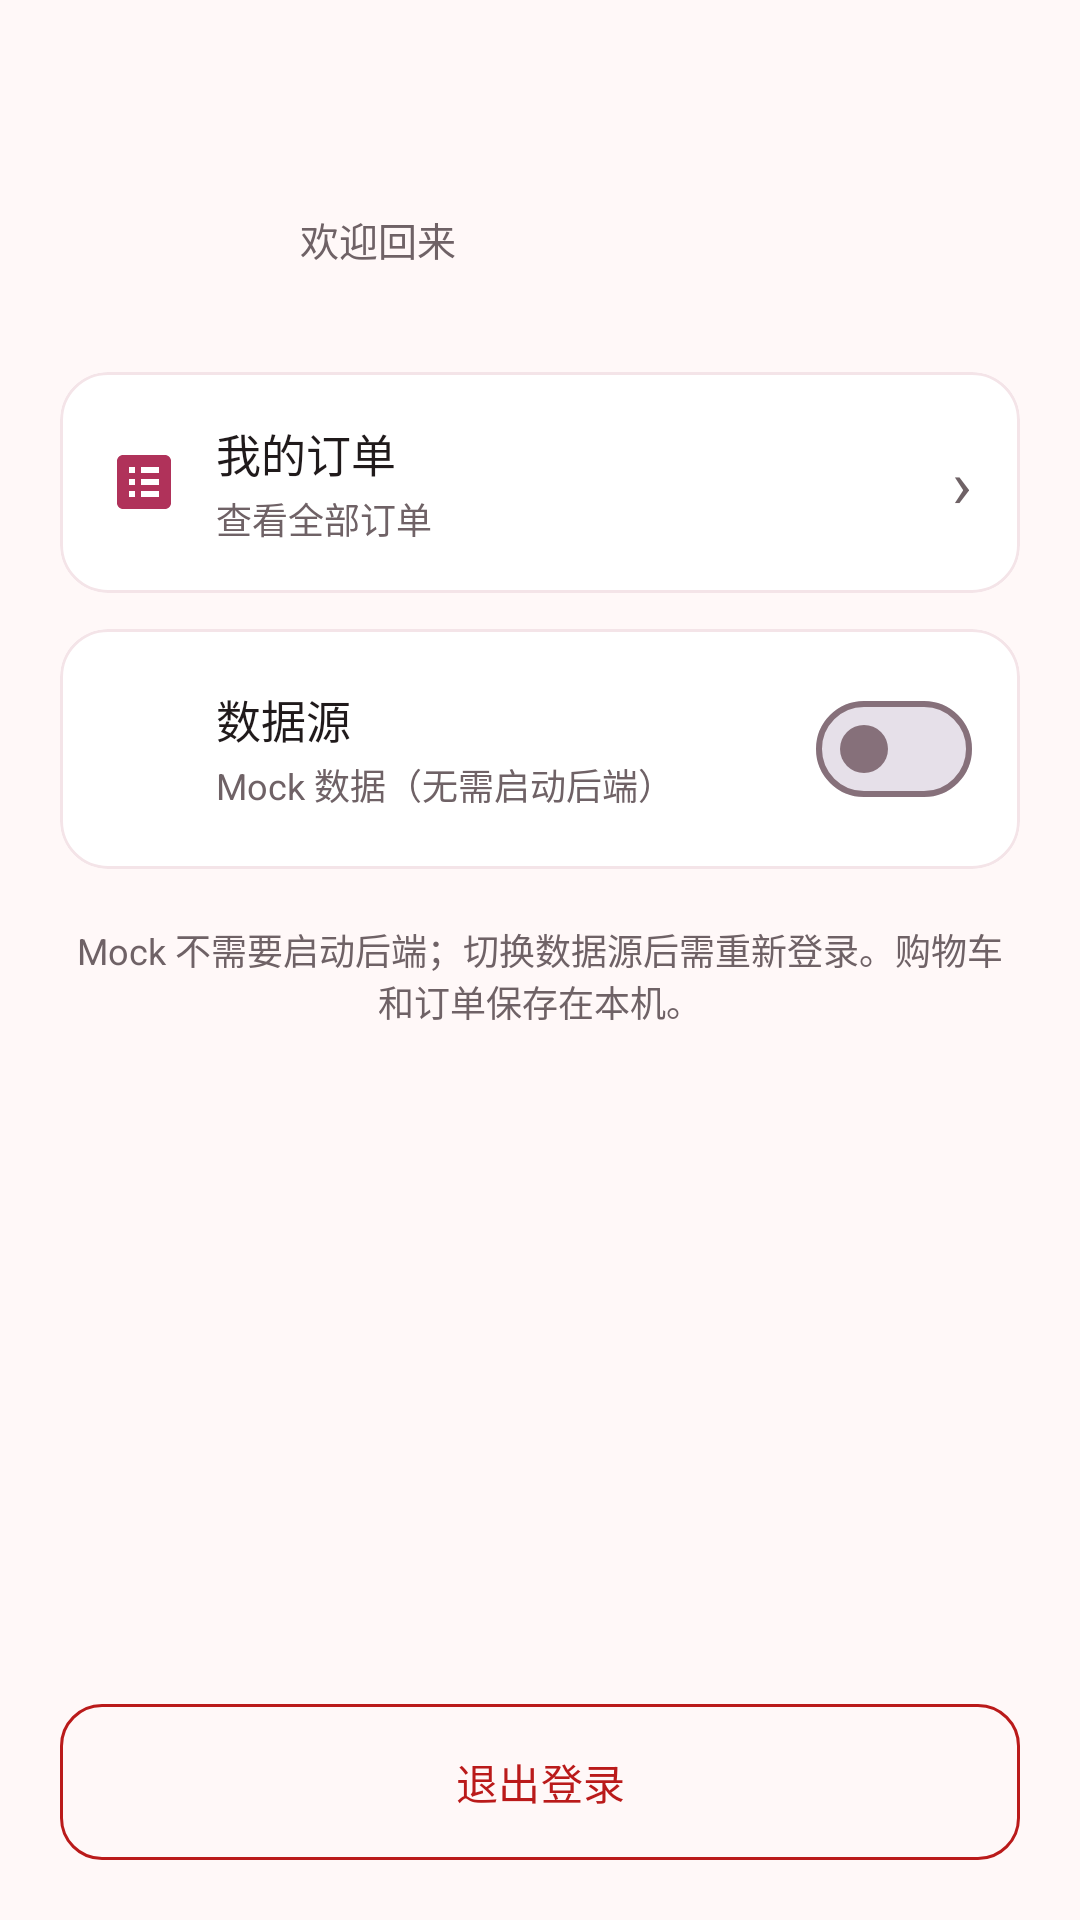

Screen size 1080px x 1920px. Icon name, then its center in pixels as point (x, y):
orders: point (144, 482)
